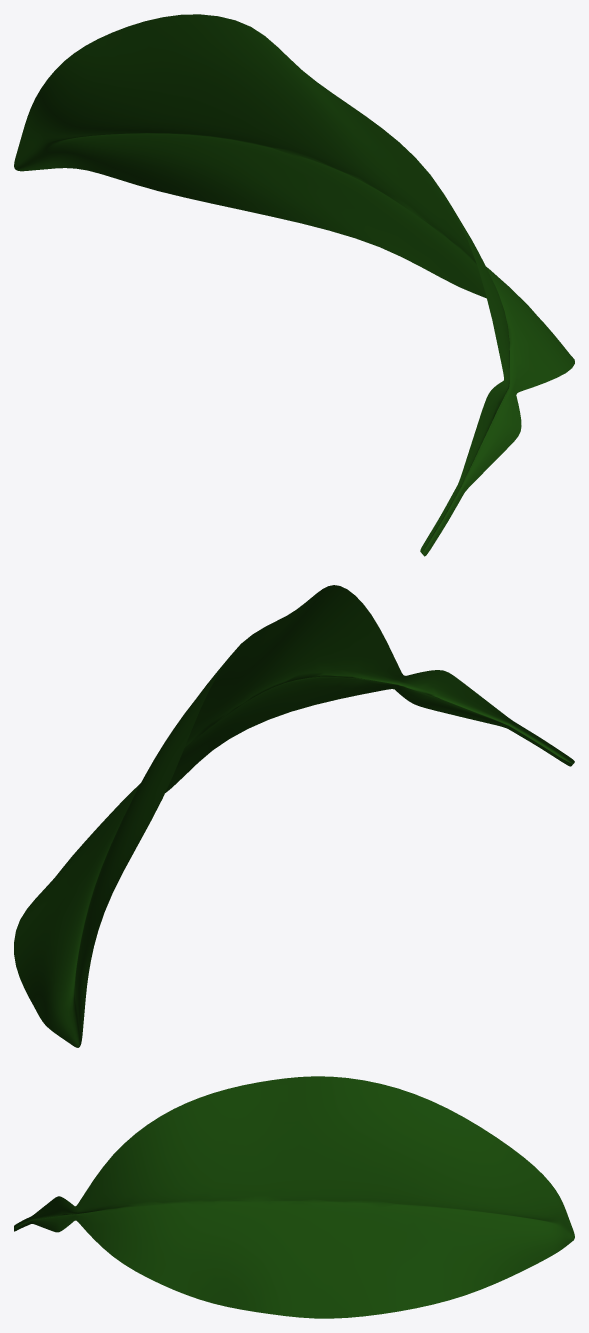
The model's file is leaf.glb.
3 renders of one model, top to bottom at view 1: azimuth 30°, elevation 25°; view 2: azimuth 150°, elevation 25°; view 3: azimuth 270°, elevation 25°, orthographic. The views are drawn at different scales.
Visible parts, largest first — view 1: Object_3; view 2: Object_3; view 3: Object_3.
Part boxes in pixels (x1,y1,x2,y2): Object_3: (14, 14, 574, 556); Object_3: (14, 585, 574, 1047); Object_3: (14, 1076, 574, 1318).
Bounding box in the file's own units: 0.0674 × 0.0639 × 0.1772.
